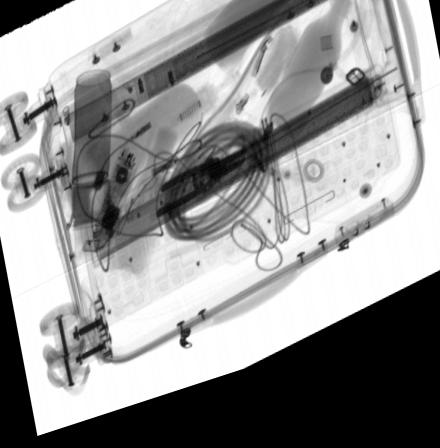Pliers: (153, 163, 246, 228)
